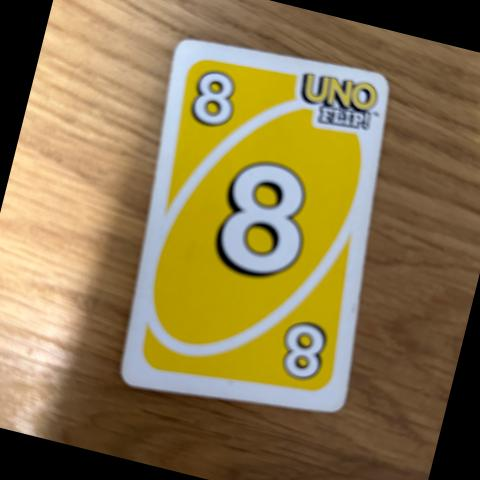reverse_red: (213, 155, 315, 281), (191, 69, 242, 128), (282, 319, 329, 382)
